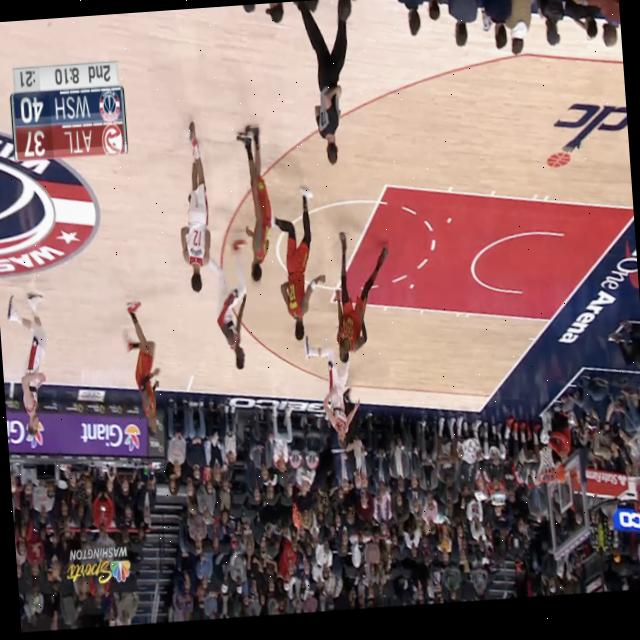no foul: (266, 176, 391, 451), (5, 278, 184, 470), (152, 232, 316, 376), (167, 113, 286, 300)
